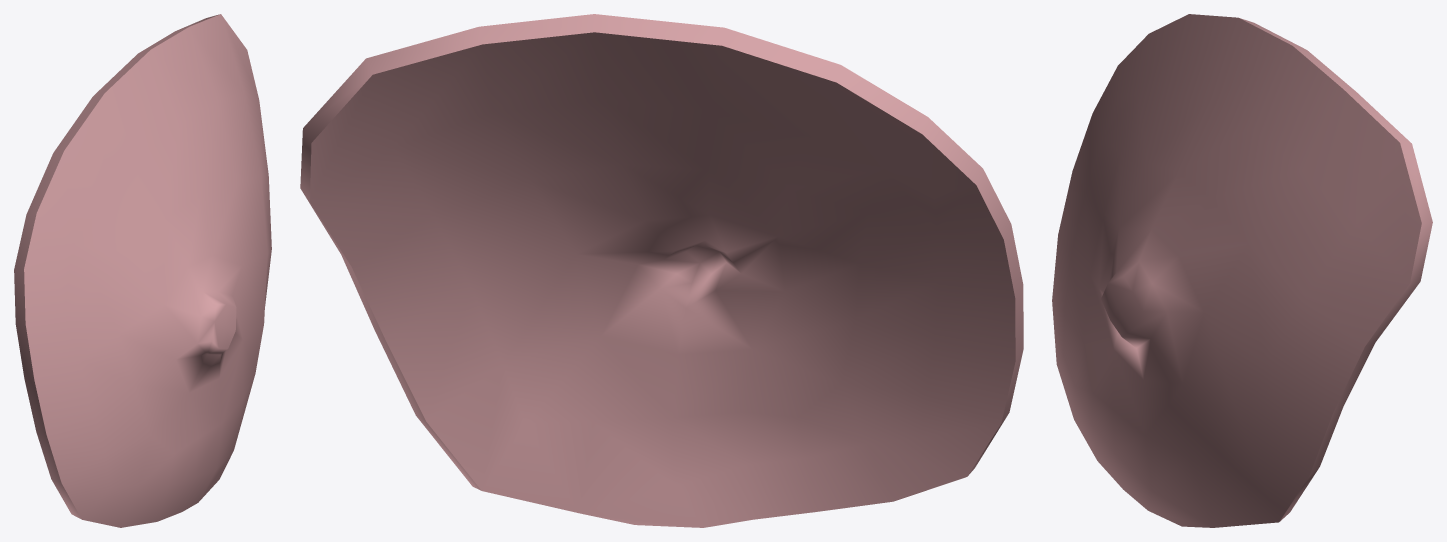
3 renders of one model, left to right at view 1: azimuth 30°, elevation 25°; view 2: azimuth 150°, elevation 25°; view 3: azimuth 270°, elevation 25°, orthographic. The views are drawn at different scales.
Visible parts, largest first — view 1: ZA_89c5a5b3e2de7257; view 2: ZA_89c5a5b3e2de7257; view 3: ZA_89c5a5b3e2de7257.
Part boxes in pixels (x1,y1,x2,y2): ZA_89c5a5b3e2de7257: (14, 14, 271, 527); ZA_89c5a5b3e2de7257: (300, 14, 1023, 527); ZA_89c5a5b3e2de7257: (1052, 14, 1432, 527).
Size of the model in its own units: 0.0784 by 0.0816 by 0.0595.
